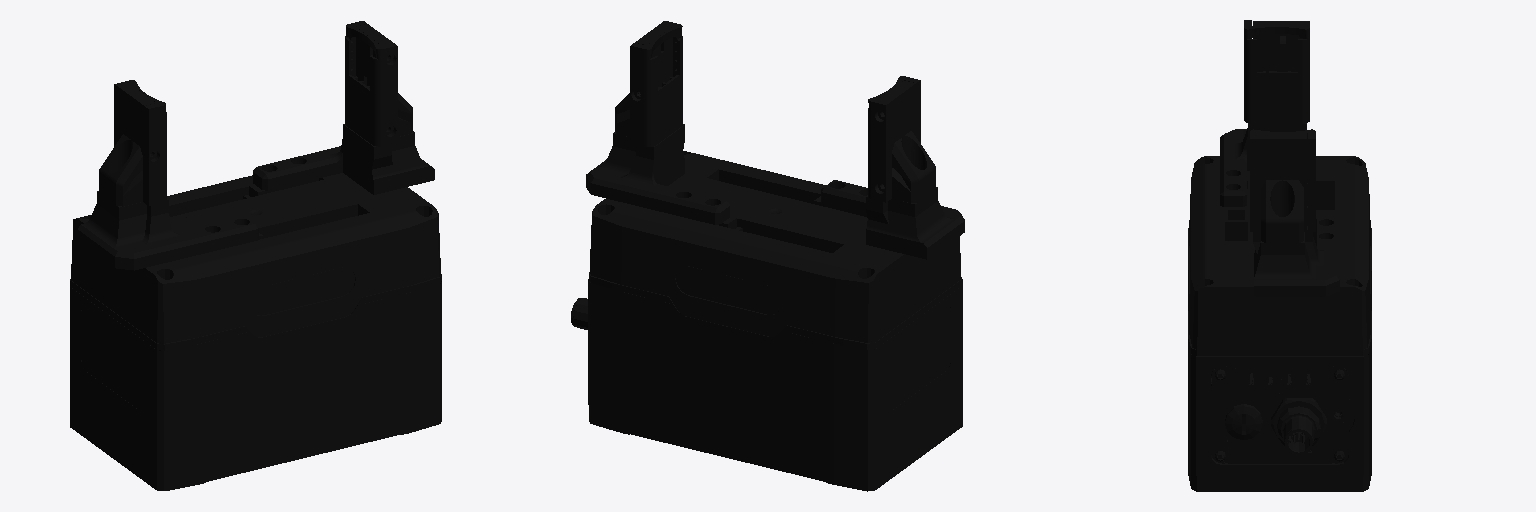
The robot description file, URDF, robot "schunk_egk40_magneto":
<robot name="schunk_egk40_magneto">

    <link name="base_link">
        <inertial>
            <origin rpy="0 0 0" xyz="0 0 0"/>
            <mass value="1.02"/>
        </inertial>
        <visual>
            <origin rpy="0 0 0" xyz="0 0 0"/>
            <geometry>
                <mesh filename="../schunk_egk40/meshes/EGK40-MB-M-B.obj"/>
            </geometry>
            <material name="">
                <color rgba="0.1 0.1 0.1 1"/>
            </material>
        </visual>
        <collision>
            <origin rpy="0 0 0" xyz="0 0 0.0418"/>
            <geometry>
                <box size="0.117 0.068 0.0835"/>
            </geometry>
        </collision>
    </link>

    <link name="right_magneto_finger">
        <inertial>
            <origin rpy="0 0 0" xyz="0 0 0"/>
            <mass value="0.02"/>
        </inertial>
        <visual>
            <origin rpy="0 0 0" xyz="0 0 0"/>
            <geometry>
                <mesh filename="../fingertips/meshes/magneto_finger.obj"/>
            </geometry>
            <material name="">
                <color rgba="0.1 0.1 0.1 1"/>
            </material>
        </visual>
        <collision>
            <origin rpy="0 0 0" xyz="0.034 -0.0155 0.0345"/>
            <geometry>
                <box size="0.025 0.025 0.055"/>
            </geometry>
        </collision>
    </link>

    <link name="left_magneto_finger">
        <inertial>
            <origin rpy="0 0 0" xyz="0 0 0"/>
            <mass value="0.02"/>
        </inertial>
        <visual>
            <origin rpy="0 0 0" xyz="0 0 0"/>
            <geometry>
                <mesh filename="../fingertips/meshes/magneto_finger.obj"/>
            </geometry>
            <material name="">
                <color rgba="0.1 0.1 0.1 1"/>
            </material>
        </visual>
        <collision>
            <origin rpy="0 0 0" xyz="0.034 -0.0155 0.0345"/>
            <geometry>
                <box size="0.025 0.025 0.055"/>
            </geometry>
        </collision>
    </link>

    <link name="right_finger_mount"/>
    <joint name="right_finger_mount_joint" type="prismatic">
        <parent link="base_link"/>
        <child link="right_finger_mount"/>
        <origin xyz="0.0155 0.01711 0.0835" rpy="0 0 0"/>
        <axis xyz="1 0 0"/>
        <limit lower="-0.05" upper="0" effort="10" velocity="0.1"/>
    </joint>

    <link name="left_finger_mount"/>
    <joint name="left_finger_mount_joint" type="prismatic">
        <parent link="base_link"/>
        <child link="left_finger_mount"/>
        <origin xyz="-0.0155 -0.01711 0.0835" rpy="0 0 0"/>
        <axis xyz="1 0 0"/>
        <limit lower="-0" upper="0.05" effort="10" velocity="0.1"/>
    </joint>

    <joint name="right_finger_mount_to_tip" type="fixed">
        <parent link="right_finger_mount"/>
        <child link="right_magneto_finger"/>
        <origin xyz="0 0 0" rpy="0 0 0"/>
    </joint>

    <joint name="left_finger_mount_to_tip" type="fixed">
        <parent link="left_finger_mount"/>
        <child link="left_magneto_finger"/>
        <origin xyz="0 0 0" rpy="0 0 3.14"/>
    </joint>
</robot>

--- Facts derived from the render (not from the file) ---
The picture shows the robot from 3 angles, left to right: view 1: azimuth 30°, elevation 25°; view 2: azimuth 150°, elevation 25°; view 3: azimuth 270°, elevation 25°; orthographic projection.
Model schunk_egk40_magneto with 5 links and 4 joints (2 prismatic, 2 fixed), rooted at base_link, posed all joints at 0.
Links seen in each view (by area): view 1: base_link, left_magneto_finger, right_magneto_finger; view 2: base_link, right_magneto_finger, left_magneto_finger; view 3: base_link, right_magneto_finger, left_magneto_finger.
Boxes of the visible links, x1,y1,x2,y2 form: base_link: [70, 173, 441, 490]; left_magneto_finger: [77, 80, 258, 270]; right_magneto_finger: [253, 21, 434, 194]; base_link: [571, 151, 962, 491]; right_magneto_finger: [586, 21, 729, 224]; left_magneto_finger: [821, 76, 964, 259]; base_link: [1188, 156, 1371, 491]; right_magneto_finger: [1250, 129, 1339, 296]; left_magneto_finger: [1220, 20, 1309, 206].
Size in the robot's own frame: 0.1439 by 0.068 by 0.1405 metres.
3 mesh visuals loaded from 2 distinct referenced files (2 OBJ).